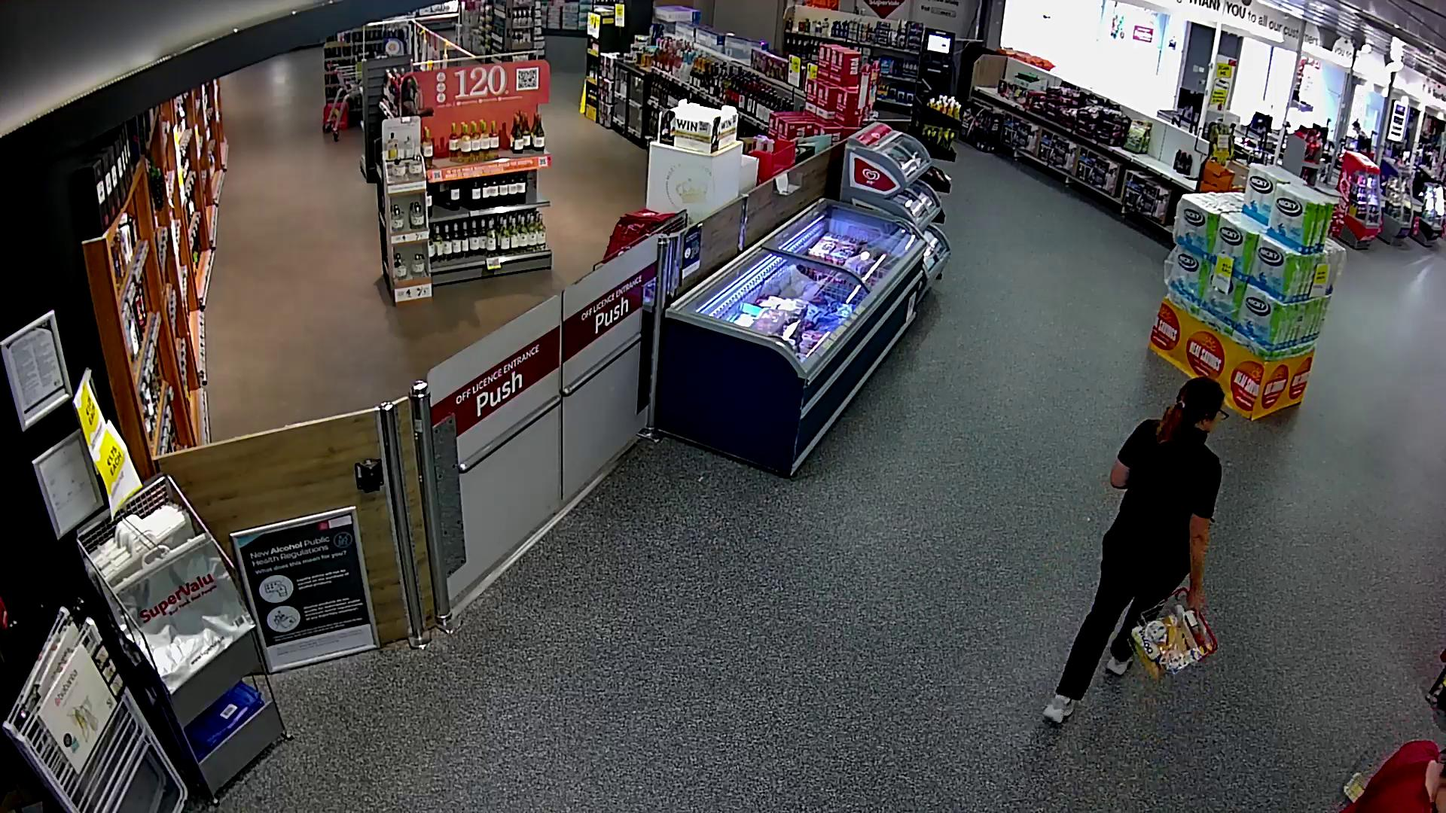filled-basket: (1127, 587, 1219, 682)
person: (1041, 377, 1228, 729)
person-with-filled-basket-trolly: (1041, 376, 1226, 729)
